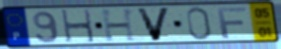0: (185, 5, 214, 42)
9: (32, 10, 61, 44)
F: (216, 6, 249, 40)
H: (100, 7, 139, 43), (59, 8, 97, 44)
V: (134, 7, 173, 43)
